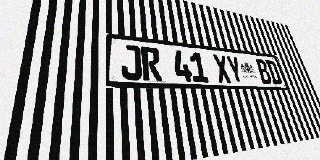1: (188, 51, 209, 82)
4: (172, 50, 193, 82)
B: (255, 59, 273, 84)
D: (265, 60, 283, 85)
J: (120, 44, 143, 80)
R: (141, 46, 163, 81)
X: (212, 54, 232, 83)
Y: (225, 55, 245, 83)
